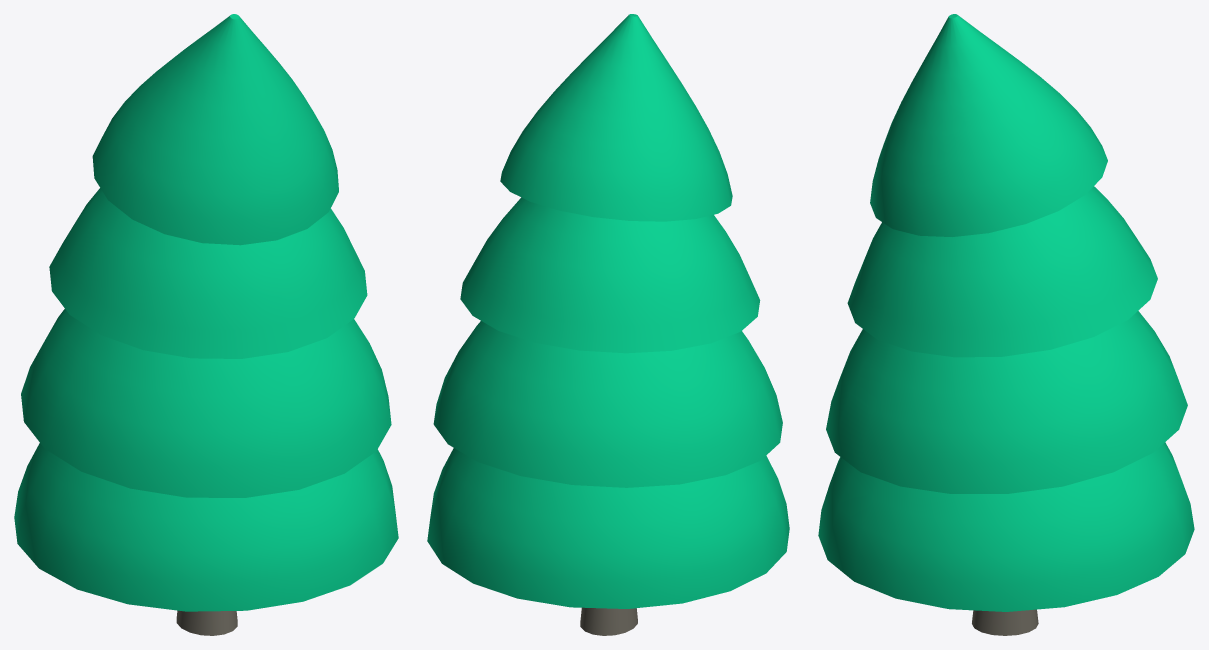
The model's file is sapin_3.fbx.
3 renders of one model, left to right at view 1: azimuth 30°, elevation 25°; view 2: azimuth 150°, elevation 25°; view 3: azimuth 270°, elevation 25°, orthographic. The views are drawn at different scales.
Parts seen in each view (by area): view 1: Cone_2, Cone_3, Cone, Cone_4, Cylinder; view 2: Cone_2, Cone_3, Cone_4, Cone, Cylinder; view 3: Cone_2, Cone_3, Cone_4, Cone, Cylinder.
Boxes of the visible parts, left/top/right/bottom form: Cone_2: left=21, top=309, right=391, bottom=497; Cone_3: left=14, top=443, right=398, bottom=611; Cone: left=92, top=14, right=338, bottom=245; Cone_4: left=49, top=188, right=367, bottom=358; Cylinder: left=176, top=610, right=237, bottom=635; Cone_2: left=433, top=321, right=782, bottom=487; Cone_3: left=427, top=448, right=789, bottom=608; Cone_4: left=460, top=197, right=760, bottom=353; Cone: left=500, top=14, right=732, bottom=221; Cylinder: left=580, top=607, right=637, bottom=635; Cone_2: left=826, top=311, right=1187, bottom=493; Cone_3: left=818, top=442, right=1194, bottom=611; Cone_4: left=847, top=186, right=1157, bottom=357; Cone: left=870, top=14, right=1107, bottom=236; Cylinder: left=972, top=609, right=1038, bottom=635.
Size of the model in its own units: 436 by 779 by 436.
